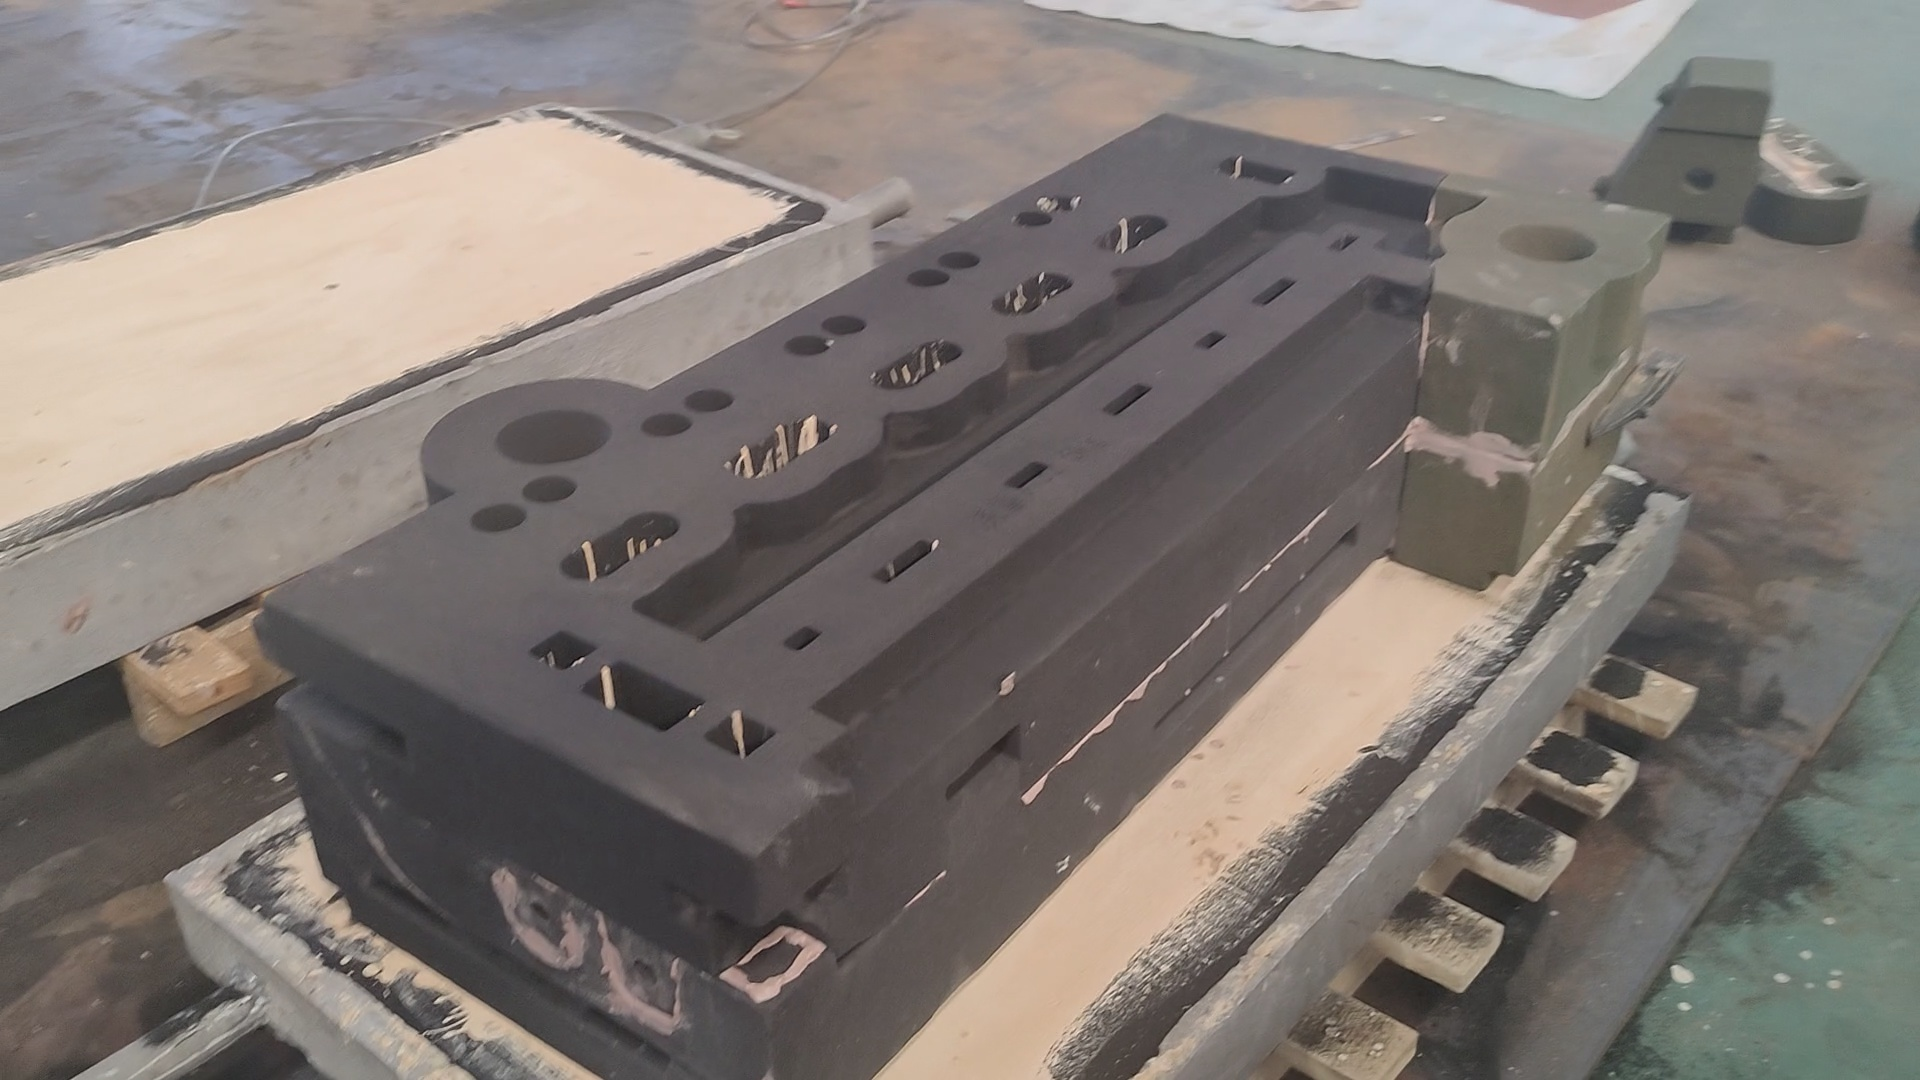pouring hole: (495, 407, 615, 465), (1499, 222, 1601, 264)
